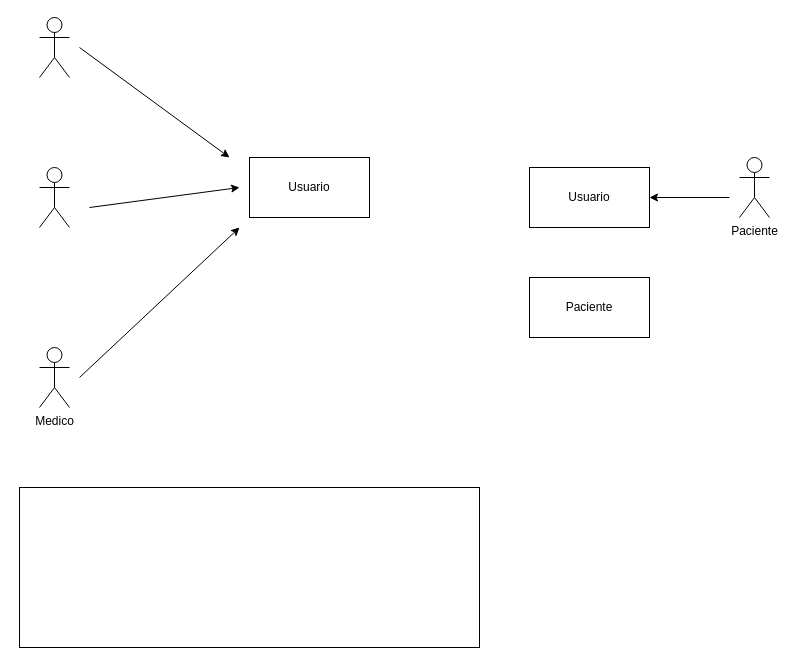
This 795x665 diagram has some shape labels left out. Each missing label, with the centre of its shape:
"Administrador" goes at pixel 54 47.
"Preguntar: clave de 20 caracteres para consumir servicio." goes at pixel 249 567.
"Rastreador" goes at pixel 54 197.
